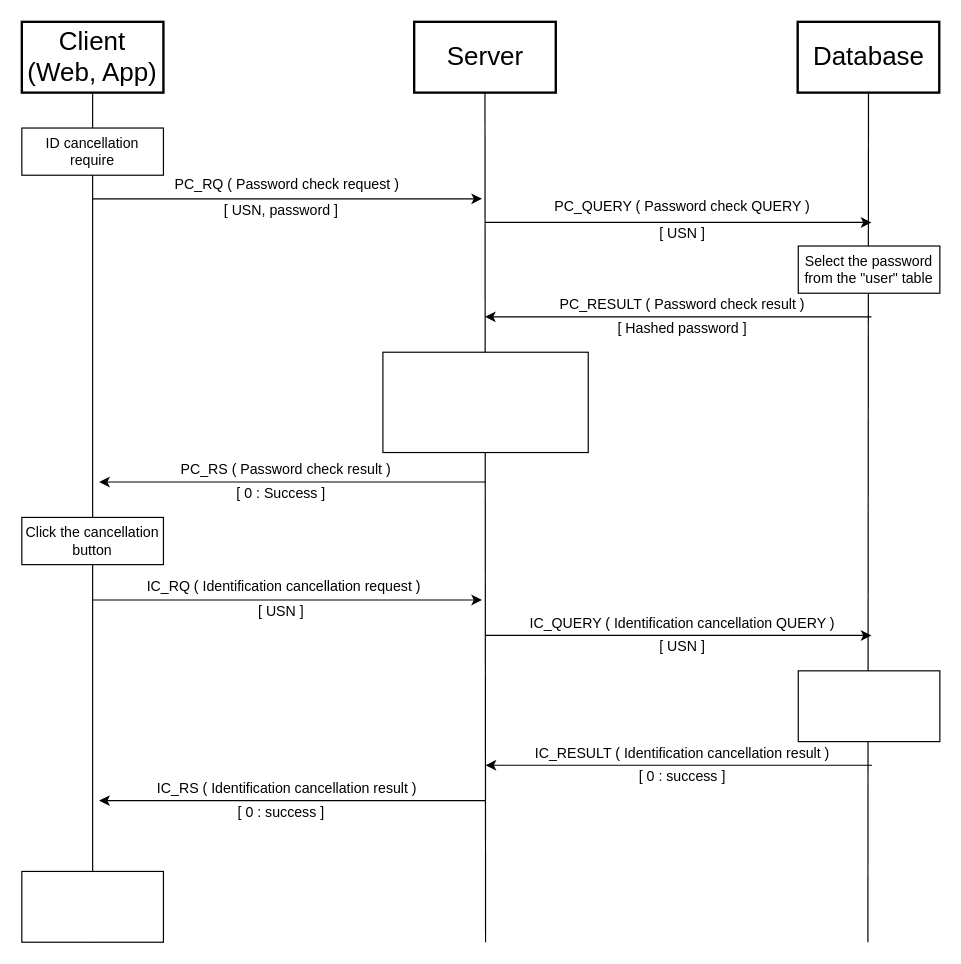
Some shapes in this 961 by 964 pixel diagram are drawn without their labels. The centre of each missing label's shape, as x and y in pixels:
Delete data from the "user" table: point (868, 706)
Show the massage that the ID cancellation has been completed: point (92, 906)
Verify that the password entered by the user matches the database password: point (485, 402)
